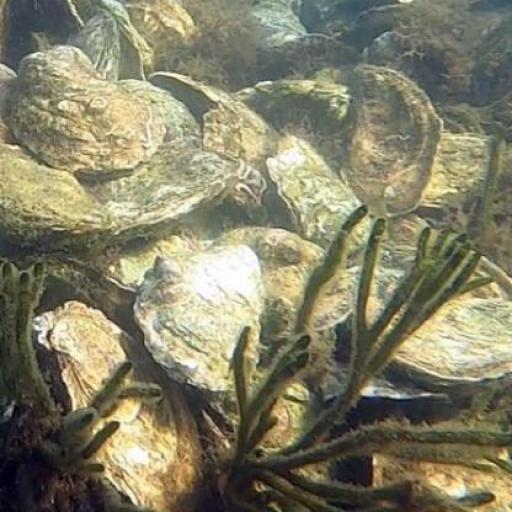Oyster-Closed: (32, 308, 205, 512), (13, 49, 168, 184), (144, 234, 262, 389), (217, 227, 359, 344), (91, 138, 245, 243), (349, 74, 438, 223), (360, 296, 512, 383), (268, 143, 376, 255), (1, 153, 107, 246)
Oyster-Open: (121, 69, 228, 145), (69, 5, 151, 88)
